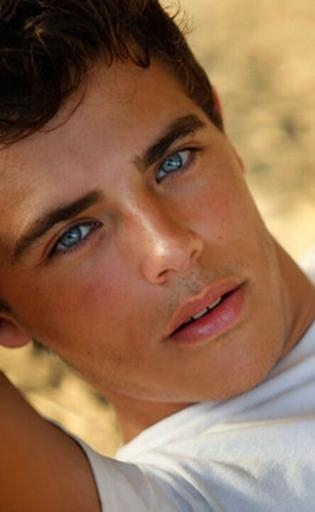left_eye: (156, 146, 203, 183)
left_lip_corner: (233, 273, 254, 294)
right_eye: (49, 218, 106, 257)
right_lip_corner: (161, 327, 180, 343)
